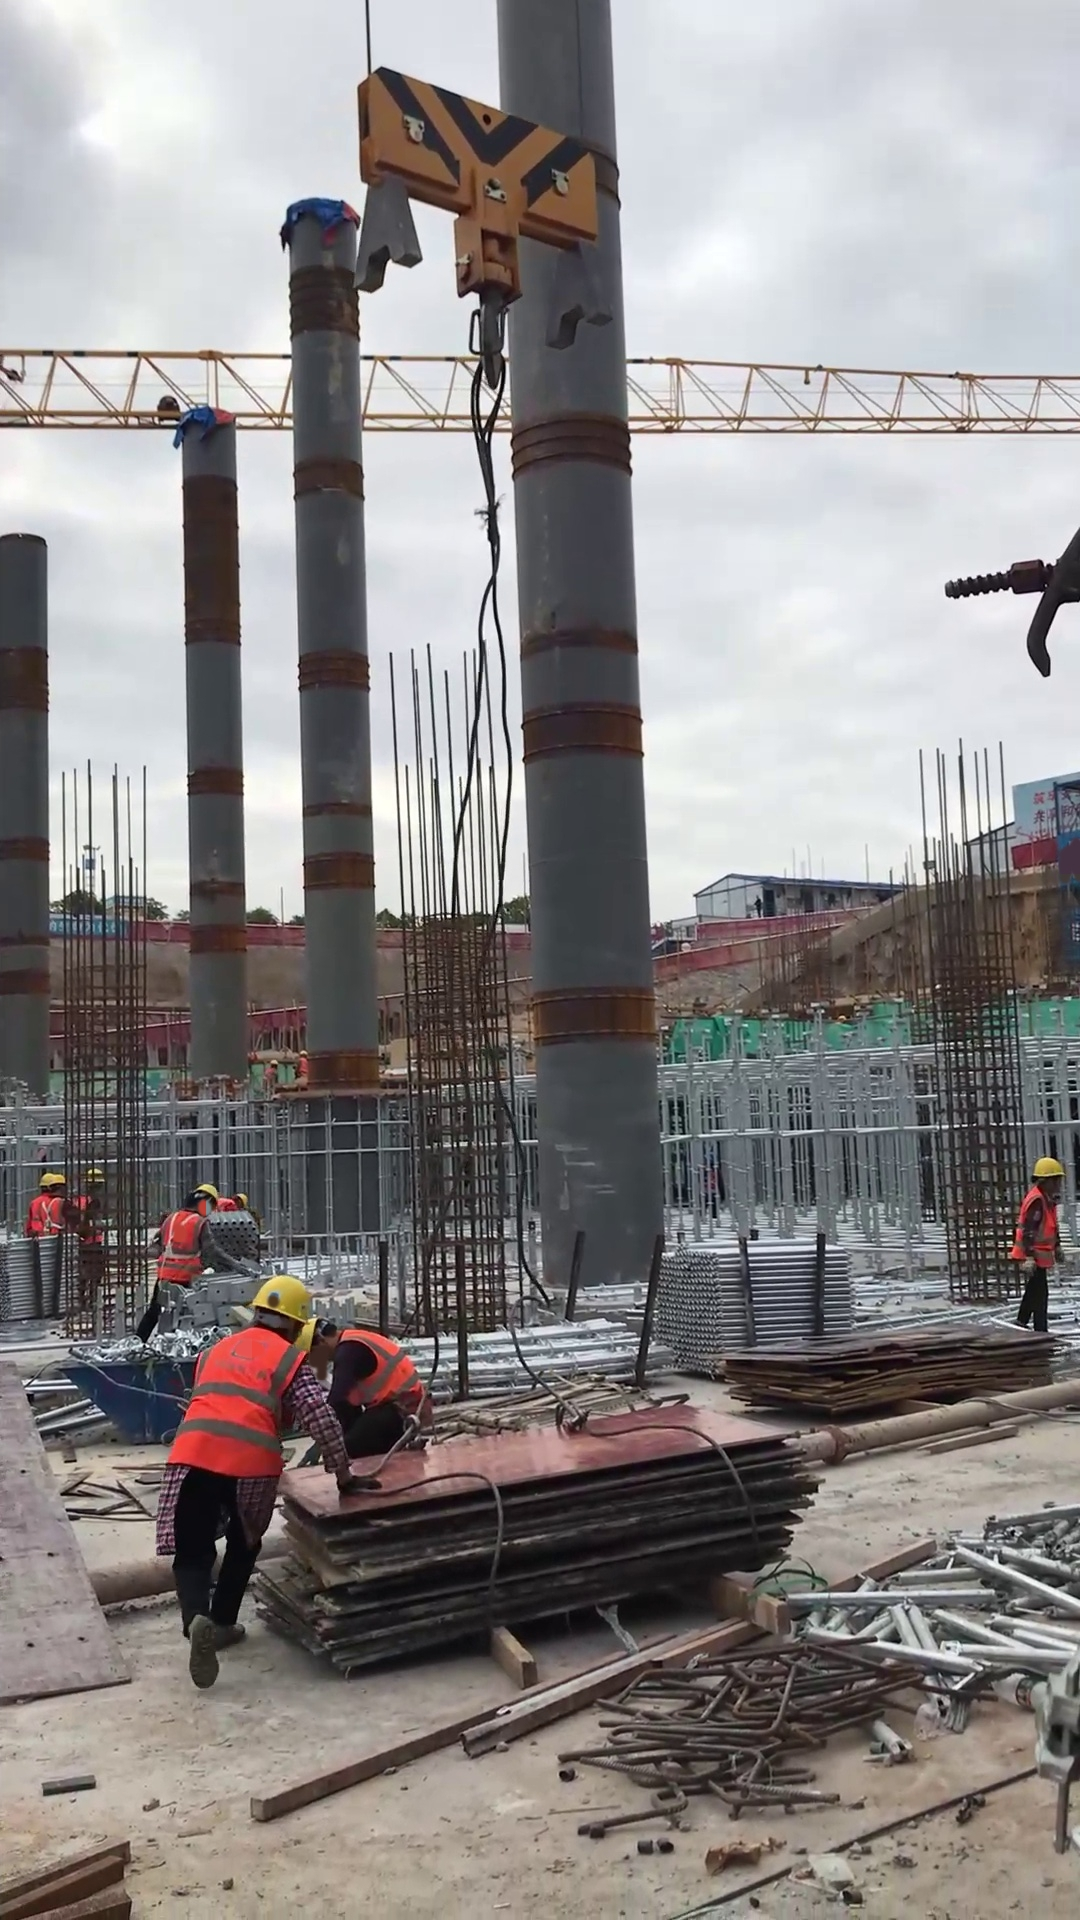helmet: (244, 1272, 313, 1331), (297, 1316, 330, 1354), (1031, 1156, 1065, 1181), (188, 1180, 218, 1207), (83, 1167, 107, 1184), (46, 1170, 66, 1188), (235, 1191, 250, 1209), (39, 1170, 53, 1187), (298, 1048, 308, 1056), (269, 1058, 279, 1065)
person: (154, 1271, 384, 1688), (299, 1314, 430, 1460), (135, 1180, 219, 1338), (1010, 1156, 1068, 1336), (70, 1166, 110, 1316), (40, 1171, 69, 1238), (27, 1172, 56, 1237), (217, 1183, 250, 1211), (263, 1055, 281, 1093), (291, 1043, 309, 1082)
vest: (163, 1324, 306, 1479), (338, 1326, 426, 1408), (1011, 1185, 1064, 1269), (156, 1208, 206, 1285), (73, 1193, 104, 1246), (41, 1195, 67, 1237), (28, 1194, 51, 1230), (217, 1193, 236, 1212), (295, 1056, 309, 1075), (264, 1065, 276, 1082)
